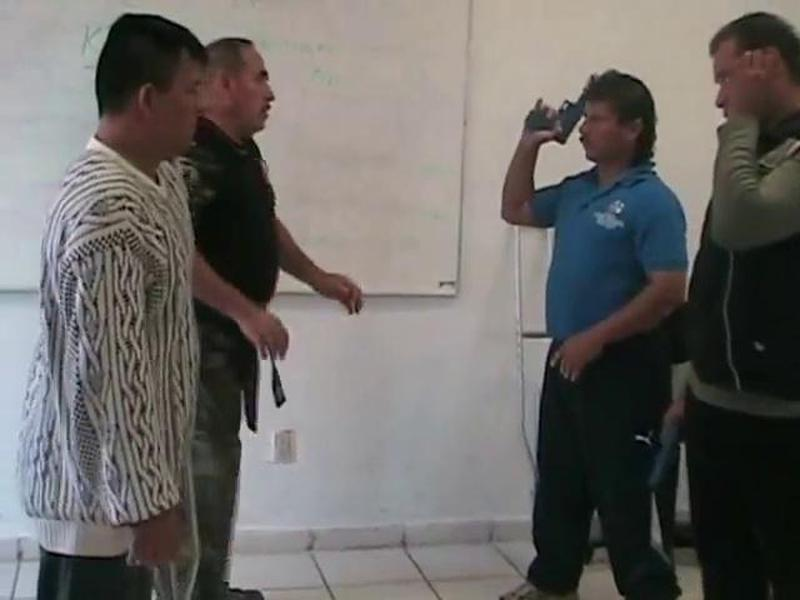Pistola: (504, 82, 597, 152)
